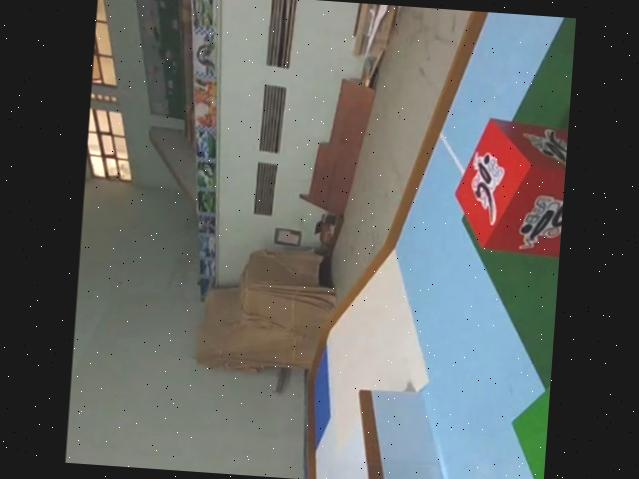R1: (447, 113, 568, 254)
